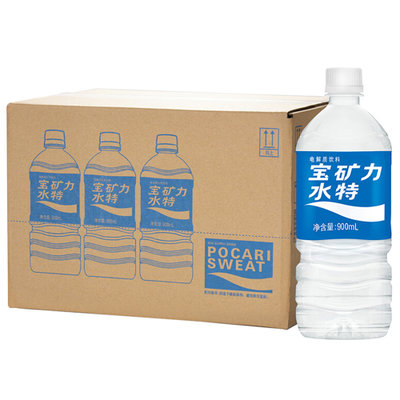POCARI SWEAT: (293, 67, 393, 341)
